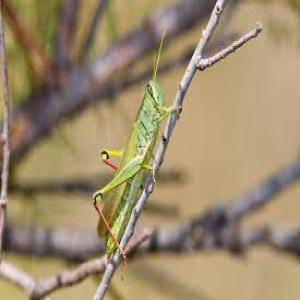locust: (79, 44, 192, 263)
